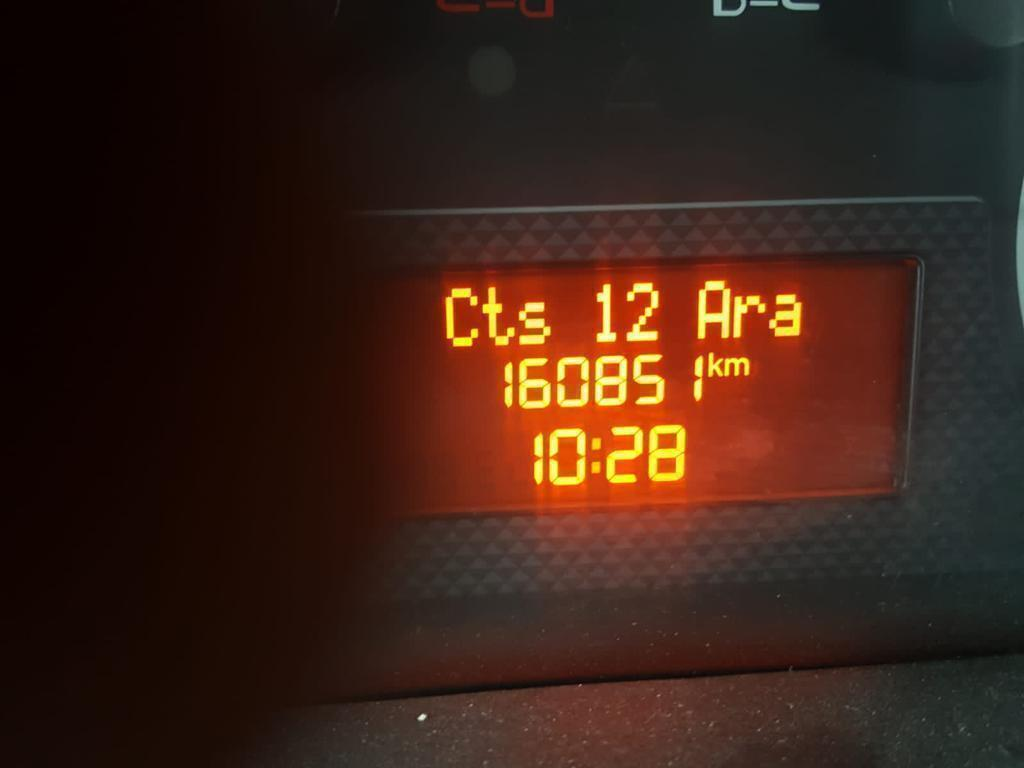0: (547, 425, 586, 488), (555, 353, 590, 409)
1: (595, 279, 618, 347), (530, 430, 545, 487), (500, 357, 514, 408), (692, 353, 704, 405)
2: (622, 279, 661, 344), (605, 424, 644, 485)
5: (631, 350, 669, 407)
6: (517, 355, 552, 411)
8: (647, 422, 686, 484), (593, 353, 628, 407)
X: (442, 284, 479, 351), (479, 285, 516, 349), (696, 276, 731, 341), (517, 296, 552, 347), (767, 291, 804, 338), (732, 293, 765, 337), (589, 435, 603, 480), (724, 355, 750, 378), (706, 350, 723, 379)
odometer: (340, 244, 924, 528)
